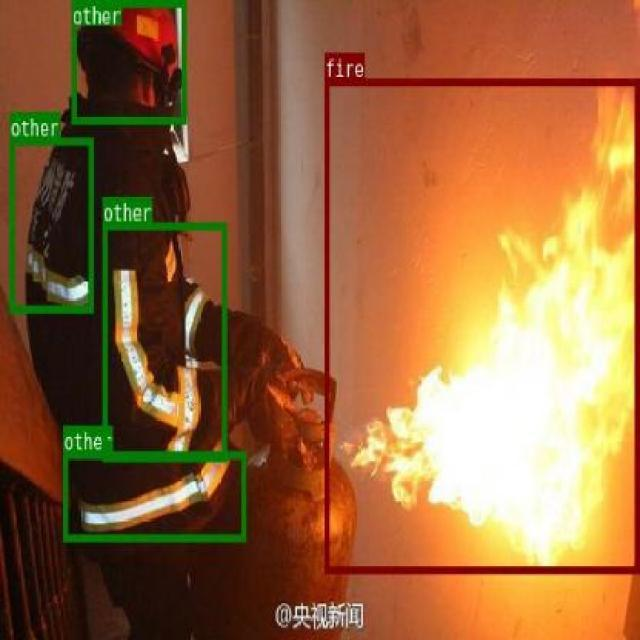Fire: (324, 78, 638, 572)
